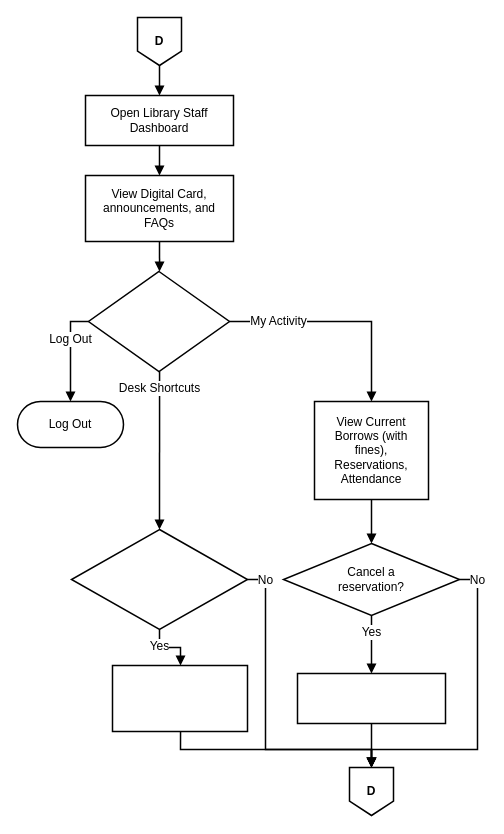
The diagram is 504 pixels wide and 834 high, and some of its shapes have lost their labels. The shapes that lost their labels are listed below. From the top down, each one's centre as x and y in pixels, then its label:
At (x=158, y=321): "Select dashboard section?".
At (x=159, y=579): "Active with desk permissions?".
At (x=179, y=698): "Open Circulation Desk, Attendance Logs, or Catalog".
At (x=371, y=698): "Cancel reservation and update queue".
